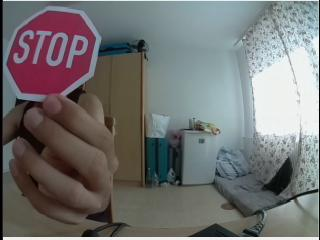stop: (6, 7, 100, 97)
